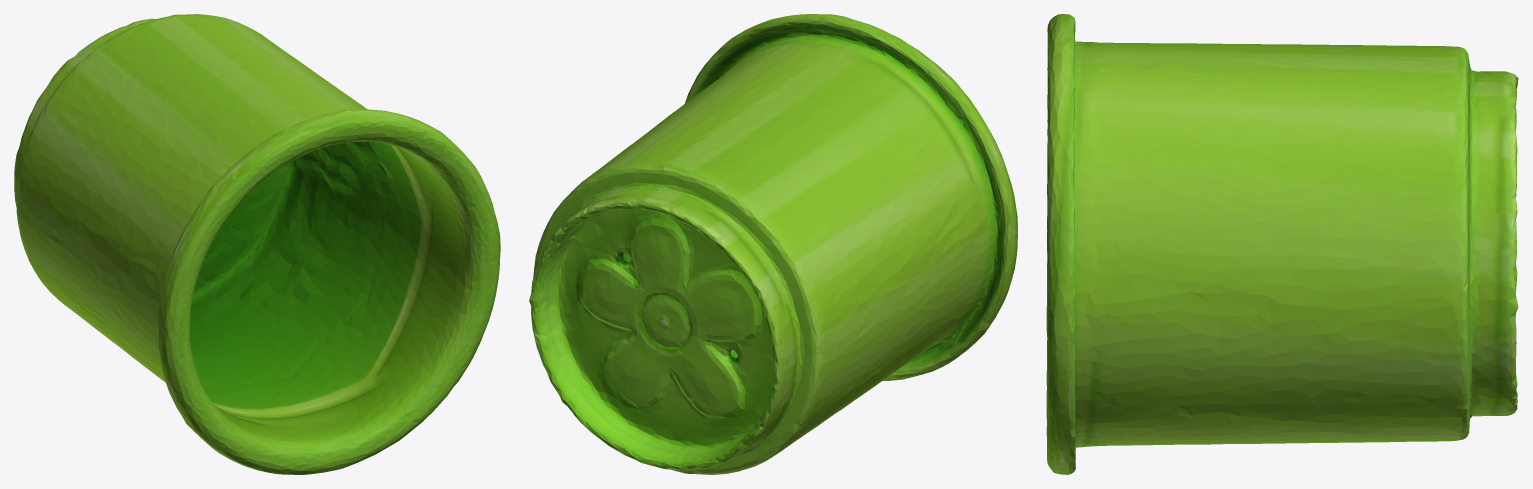
3 views of the same model, side by side, from view 1: azimuth 30°, elevation 25°; view 2: azimuth 150°, elevation 25°; view 3: azimuth 270°, elevation 25° (orthographic). The views are drawn at different scales.
Parts seen in each view (by area): view 1: node; view 2: node; view 3: node.
Boxes of the visible parts, x1,y1,x2,y2 form: node: (14,14,500,474); node: (529,14,1017,474); node: (1046,14,1518,474).
Size of the model in its own units: 0.065 by 0.0651 by 0.0666.
1 material, 1 textured.
